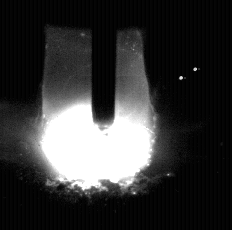arame: (92, 0, 116, 137)
poca: (41, 0, 152, 230)
